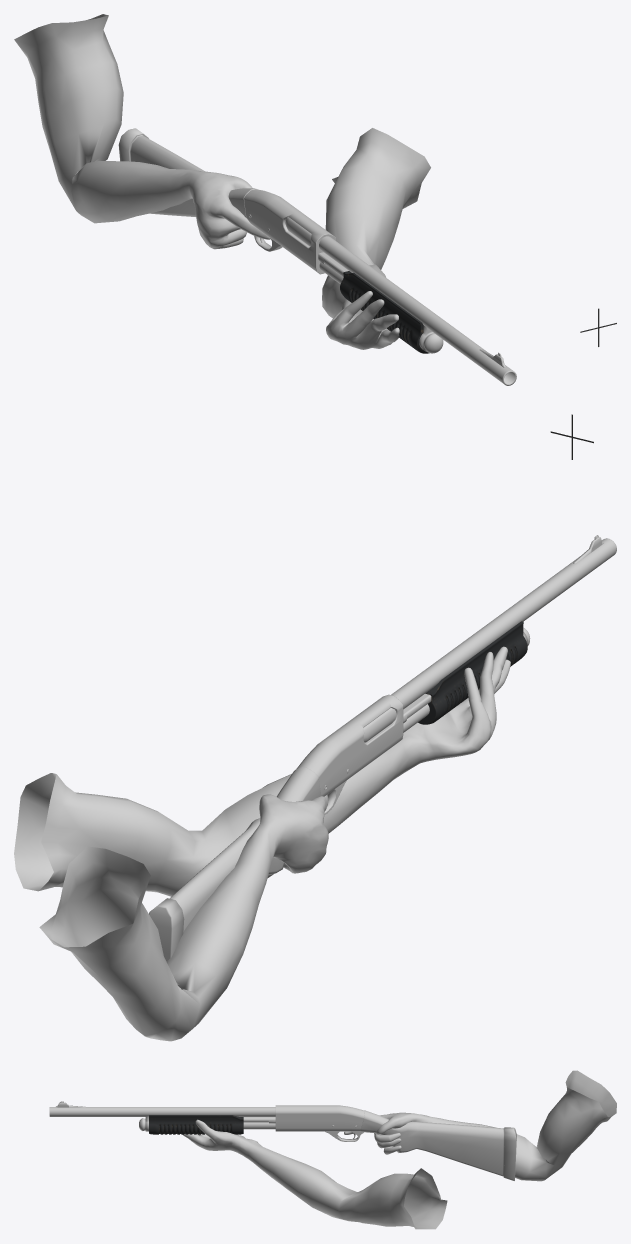
Rendered from Remington 870.obj.
3 views of the same model, one above another, from view 1: azimuth 30°, elevation 25°; view 2: azimuth 150°, elevation 25°; view 3: azimuth 270°, elevation 25° (orthographic). The views are drawn at different scales.
Visible parts, largest first — view 1: Base_Male_Mesh.001_Plane05.002, Main_Cylinder.005, Grip_Cylinder.007; view 2: Base_Male_Mesh.001_Plane05.002, Main_Cylinder.005, Grip_Cylinder.007; view 3: Base_Male_Mesh.001_Plane05.002, Main_Cylinder.005, Grip_Cylinder.007.
Part boxes in pixels (box(x1,y1,x2,y2)): Base_Male_Mesh.001_Plane05.002: box(14, 14, 430, 349); Main_Cylinder.005: box(118, 128, 516, 385); Grip_Cylinder.007: box(340, 271, 429, 353); Base_Male_Mesh.001_Plane05.002: box(14, 646, 510, 1041); Main_Cylinder.005: box(149, 535, 616, 961); Grip_Cylinder.007: box(418, 621, 527, 724); Base_Male_Mesh.001_Plane05.002: box(182, 1070, 616, 1229); Main_Cylinder.005: box(49, 1101, 516, 1180); Grip_Cylinder.007: box(149, 1115, 243, 1134).
Bounding box in the file's own units: 13.57 × 10.6 × 44.41.
